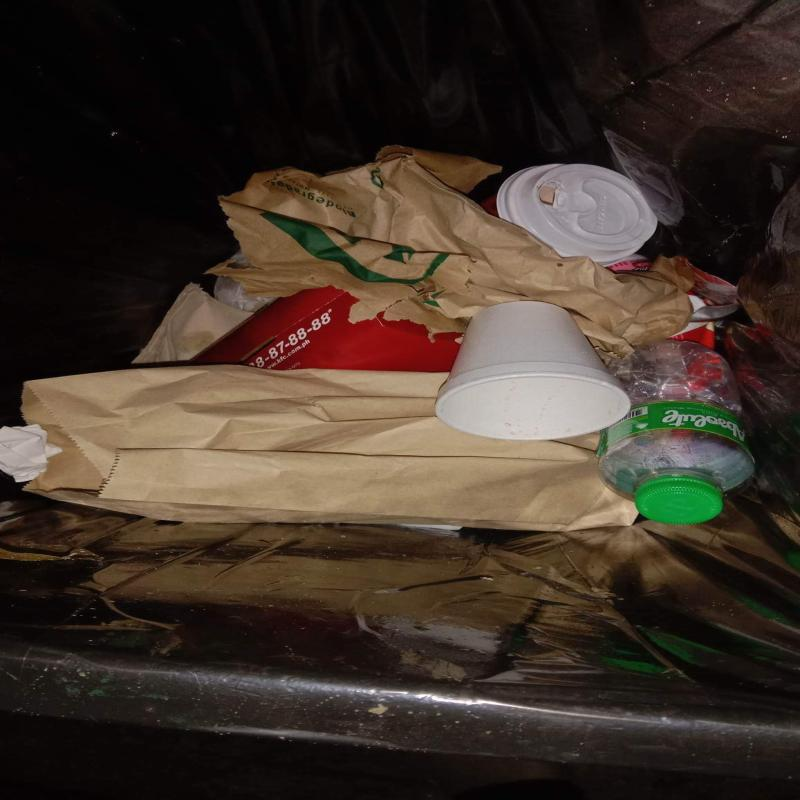paper: (204, 145, 692, 363), (21, 364, 641, 532)
plastic bottle: (595, 339, 756, 526)
styrofoam containers: (434, 301, 632, 441)
